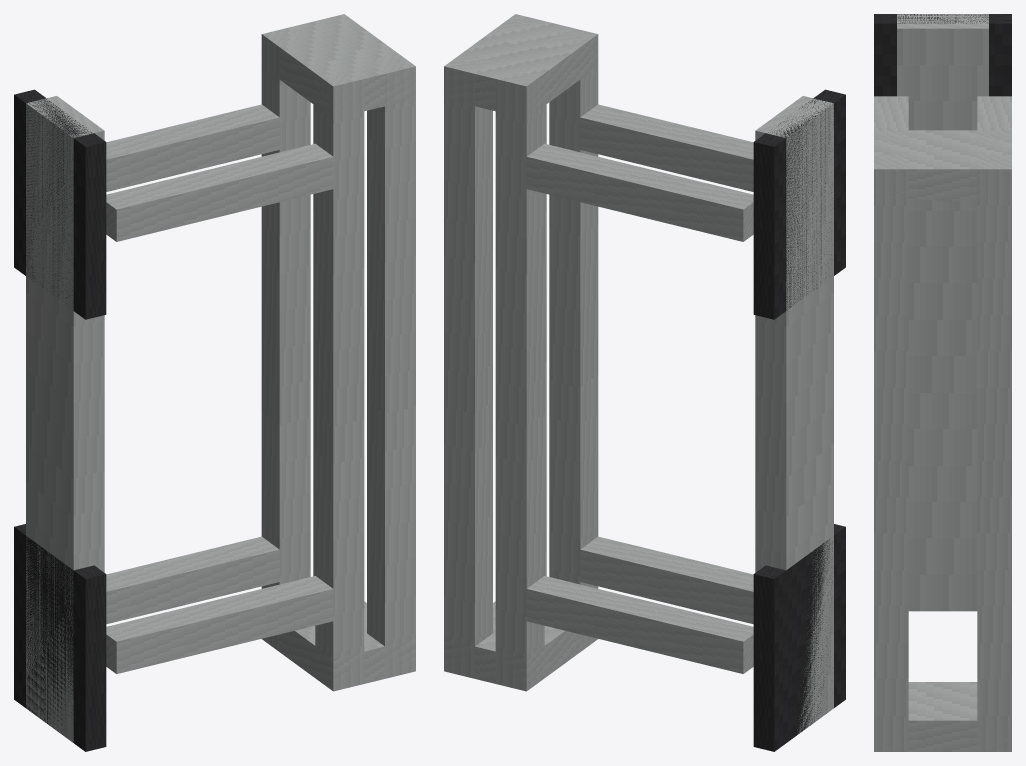
Rendered from mount_sce_3_left.obj.
The picture shows the model from 3 angles, left to right: view 1: azimuth 30°, elevation 25°; view 2: azimuth 150°, elevation 25°; view 3: azimuth 270°, elevation 25°; orthographic projection. The views are drawn at different scales.
Parts seen in each view (by area): view 1: transformer_bank_mount_sce_3_left; view 2: transformer_bank_mount_sce_3_left; view 3: transformer_bank_mount_sce_3_left.
Part boxes in pixels (x1,y1,x2,y2): transformer_bank_mount_sce_3_left: (14, 14, 415, 751); transformer_bank_mount_sce_3_left: (444, 14, 845, 751); transformer_bank_mount_sce_3_left: (874, 14, 1011, 751).
Bounding box in the file's own units: 1 × 1.75 × 0.375.
